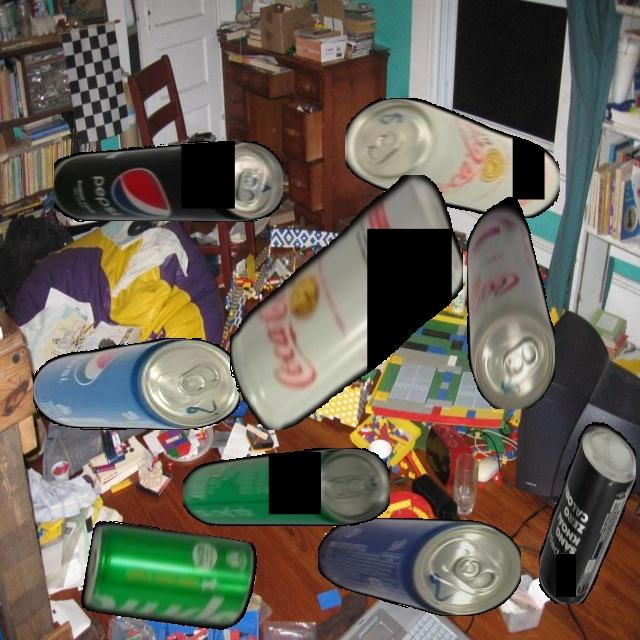debris: (229, 174, 463, 430), (345, 97, 560, 218), (80, 516, 260, 638), (317, 518, 521, 616), (466, 191, 555, 409), (32, 338, 240, 430), (53, 141, 283, 222), (538, 416, 636, 604), (182, 448, 390, 526)
